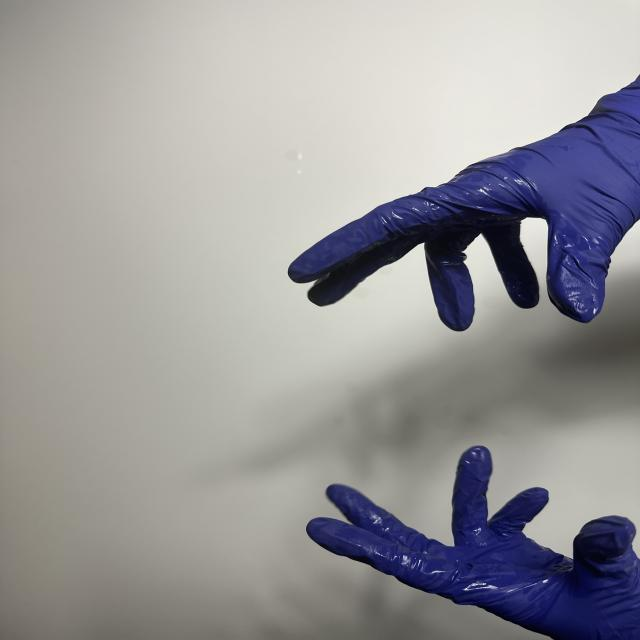gloves_contaminated: (288, 76, 640, 331), (306, 446, 640, 640)
